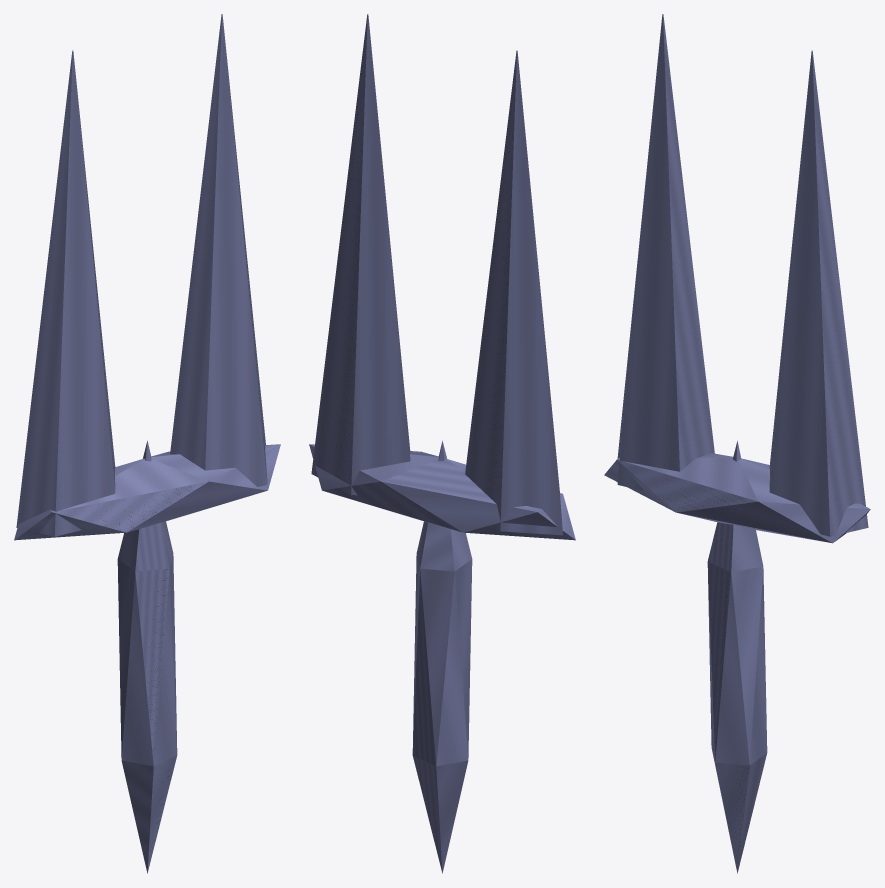
The model's file is echo_blade.glb.
3 views of the same model, side by side, from view 1: azimuth 30°, elevation 25°; view 2: azimuth 150°, elevation 25°; view 3: azimuth 330°, elevation 25° (orthographic).
Parts seen in each view (by area): view 1: gear_echo_blade; view 2: gear_echo_blade; view 3: gear_echo_blade.
Boxes of the visible parts, x1,y1,x2,y2 form: gear_echo_blade: (14, 14, 280, 873); gear_echo_blade: (309, 14, 575, 873); gear_echo_blade: (604, 14, 870, 873).
Size of the model in its own units: 0.322 by 0.97 by 0.0851.
1 material, 1 textured.
